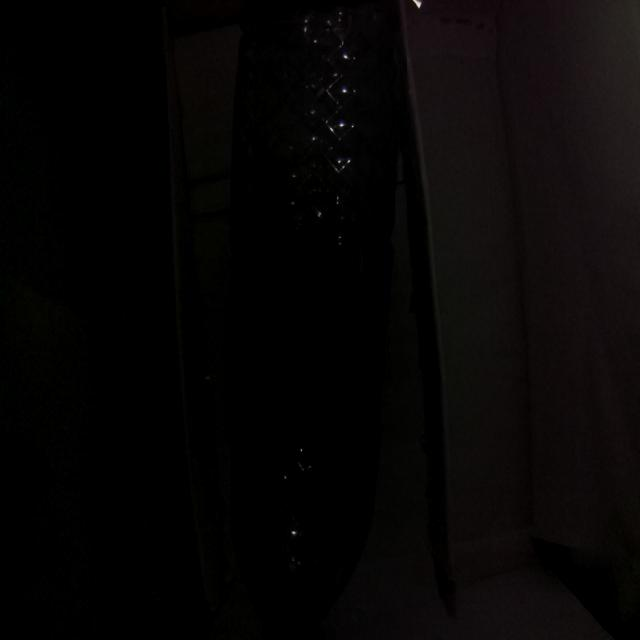bottle: (206, 0, 406, 640)
